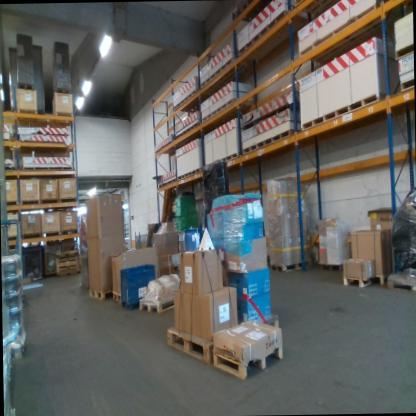pallet: (299, 89, 401, 144), (162, 318, 244, 380), (206, 326, 289, 380), (238, 13, 312, 73), (198, 55, 263, 93), (200, 92, 254, 136), (243, 122, 303, 161), (368, 265, 415, 299), (142, 283, 178, 319), (54, 244, 83, 279), (173, 86, 201, 119), (272, 253, 311, 276), (172, 119, 203, 147), (209, 149, 243, 174), (176, 165, 207, 188), (318, 257, 349, 279), (342, 272, 374, 293), (88, 284, 116, 307), (23, 164, 73, 175), (119, 296, 143, 316), (393, 41, 412, 63), (156, 175, 177, 194), (398, 74, 412, 100), (109, 287, 124, 307)
stillage: (20, 243, 45, 283), (44, 237, 65, 278)
